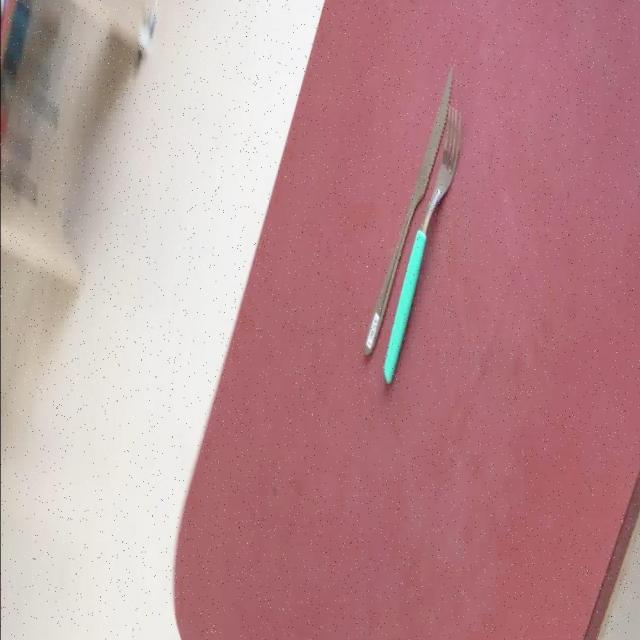Fork: (382, 108, 464, 388)
Knife: (363, 69, 457, 360)
